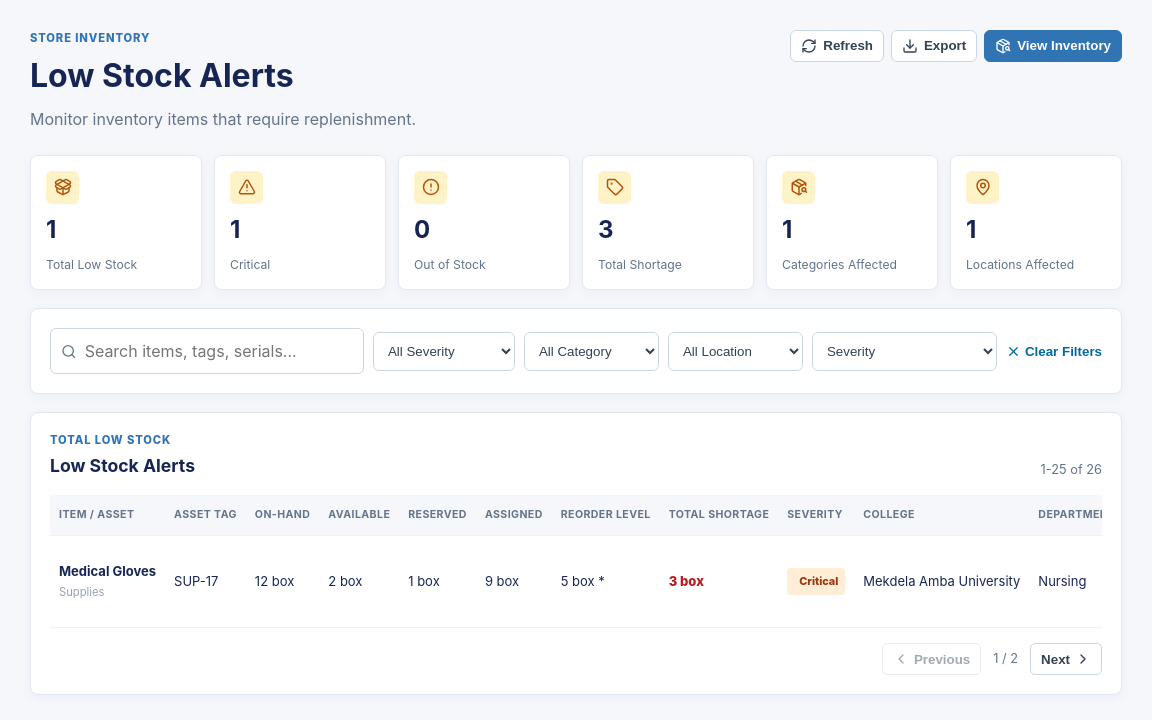
it: paginates using the server total and page metadata
Expected: the text "Medical Gloves" is shown, [59,562,156,581]
Step 1. Click the button "Next" → (1066, 659), box [1030,643,1102,675]
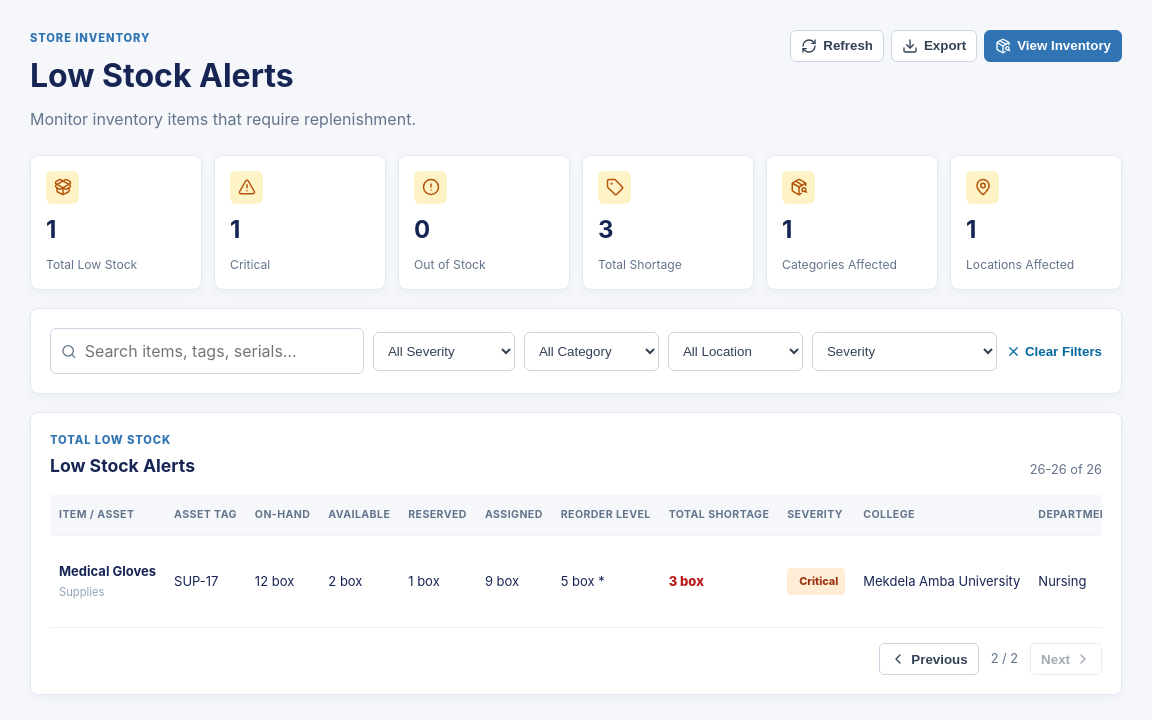
Expected: the text "2 / 2" is shown, [991,650,1018,669]
